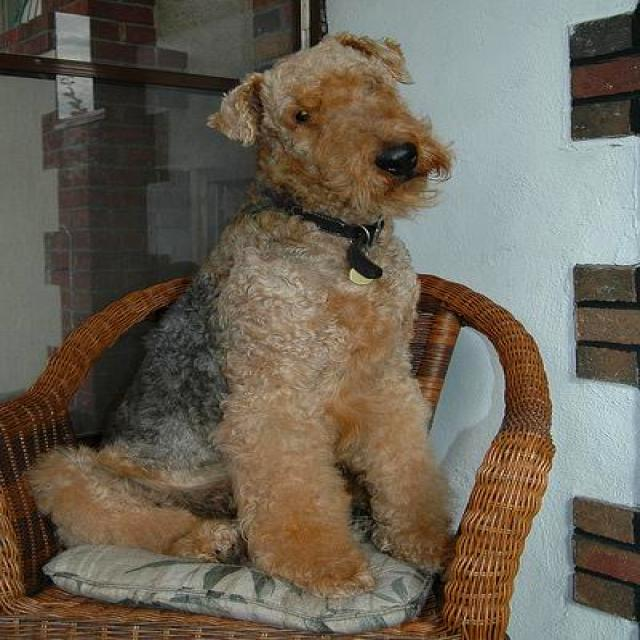airedale: (16, 27, 467, 603)
